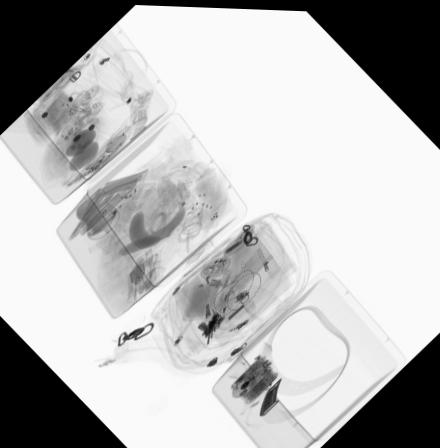Lighter: (63, 161, 99, 187)
